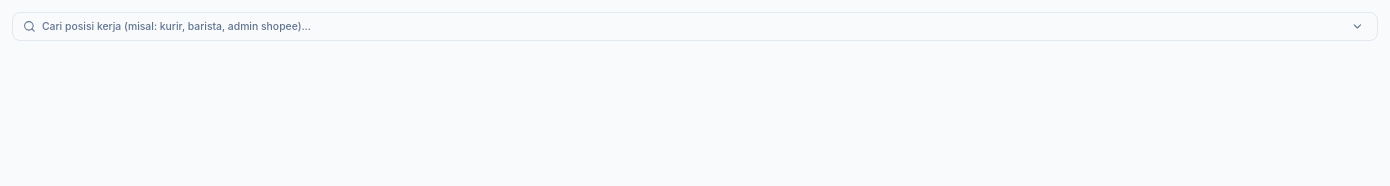
Test: JobTitleSearchSelect › filters and selects option on desktop
Later steps or results of the test are not shown.
Type "Frontend" into the dropdown at (710,26), box [42, 13, 1377, 40]
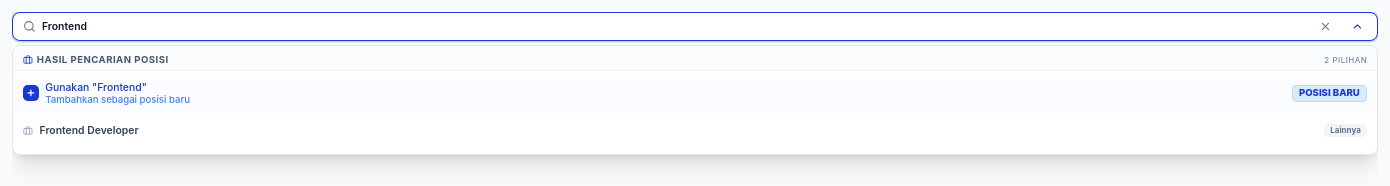
Now the text "Frontend Developer" is shown, box [40, 124, 138, 137]
